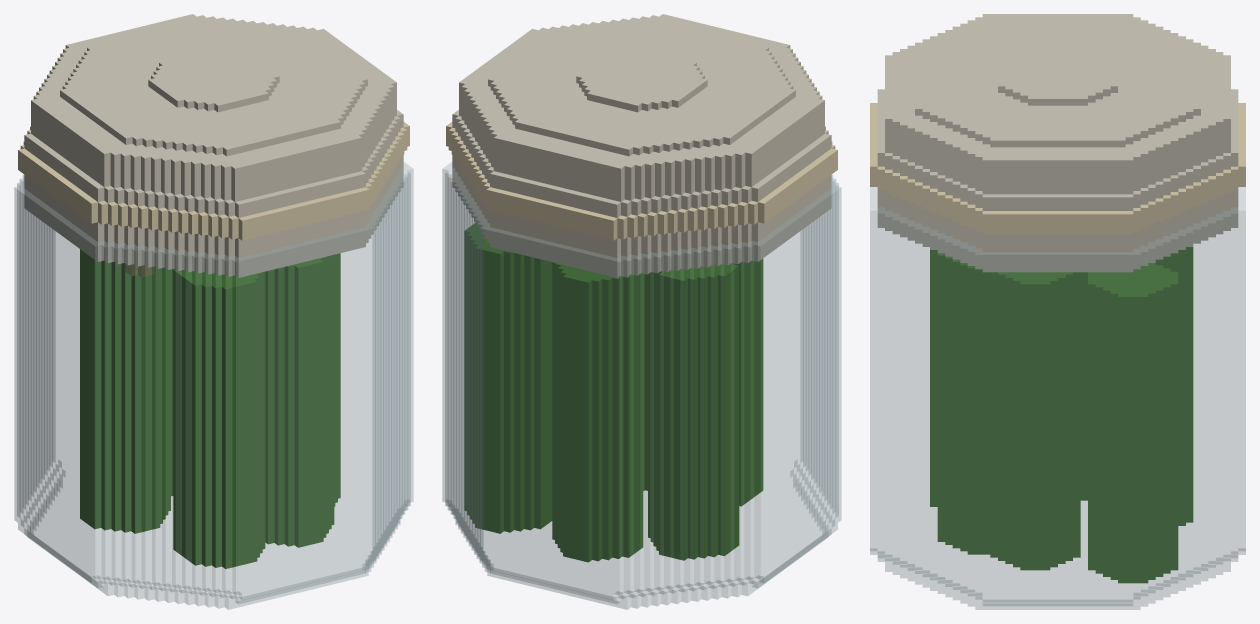
The model's file is pickles_ferment.glb.
3 views of the same model, side by side, from view 1: azimuth 30°, elevation 25°; view 2: azimuth 150°, elevation 25°; view 3: azimuth 270°, elevation 25° (orthographic). The views are drawn at different scales.
Parts seen in each view (by area): view 1: pickles_ferment:compound; view 2: pickles_ferment:compound; view 3: pickles_ferment:compound.
Part boxes in pixels (x1,y1,x2,y2): pickles_ferment:compound: (14,14,413,609); pickles_ferment:compound: (442,14,841,609); pickles_ferment:compound: (870,14,1245,609).
Size of the model in its own units: 0.1 by 0.136 by 0.1.
